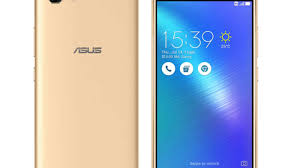asus: (28, 1, 141, 167), (149, 1, 261, 168)
